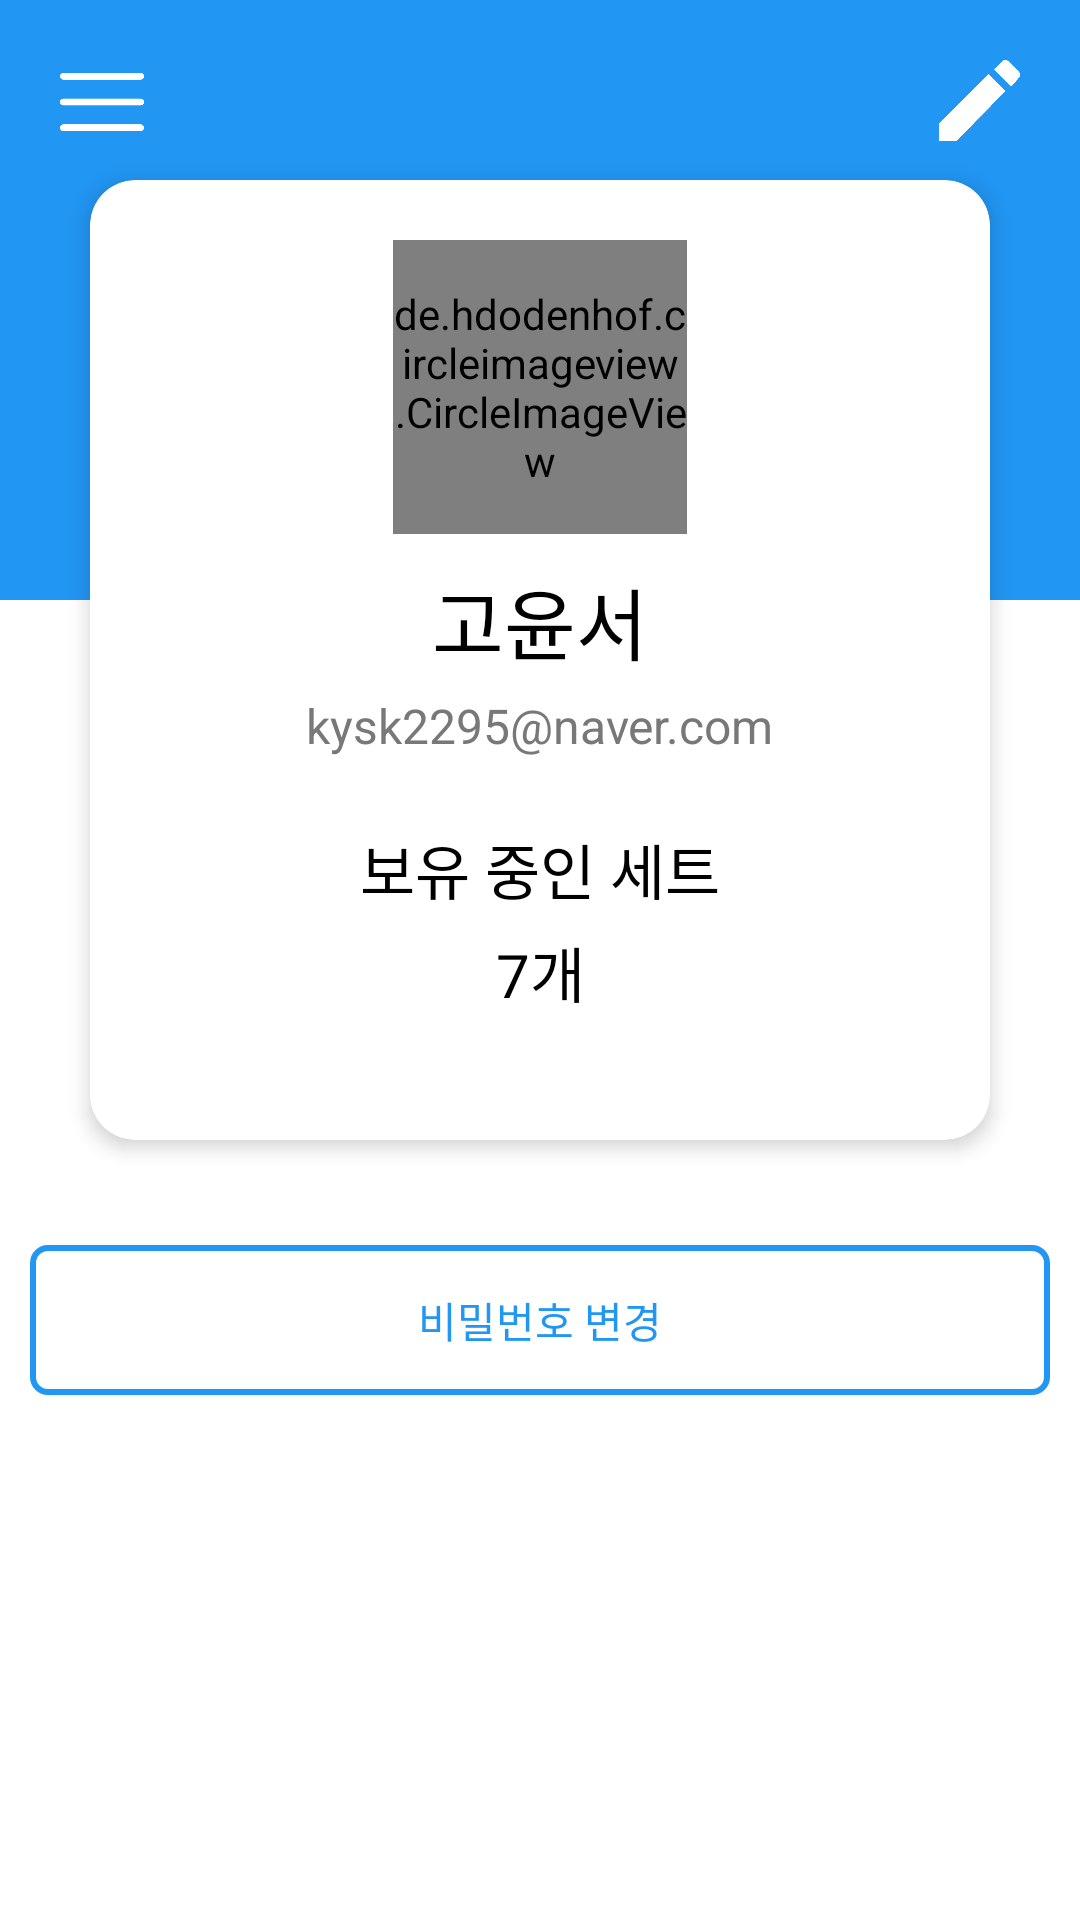

Point at icon controls on the screen. Image size 1080px×1920px, points as [x,y].
menu: [102,102]
pencil: [979,100]
